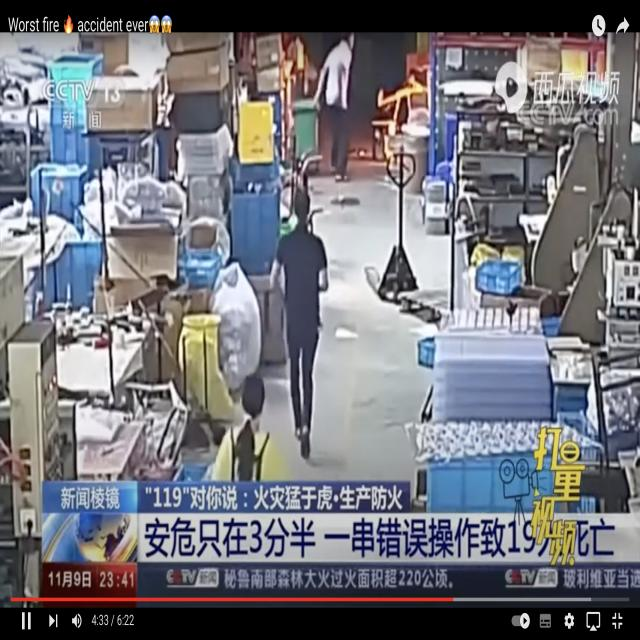Atencao: (280, 30, 457, 244)
